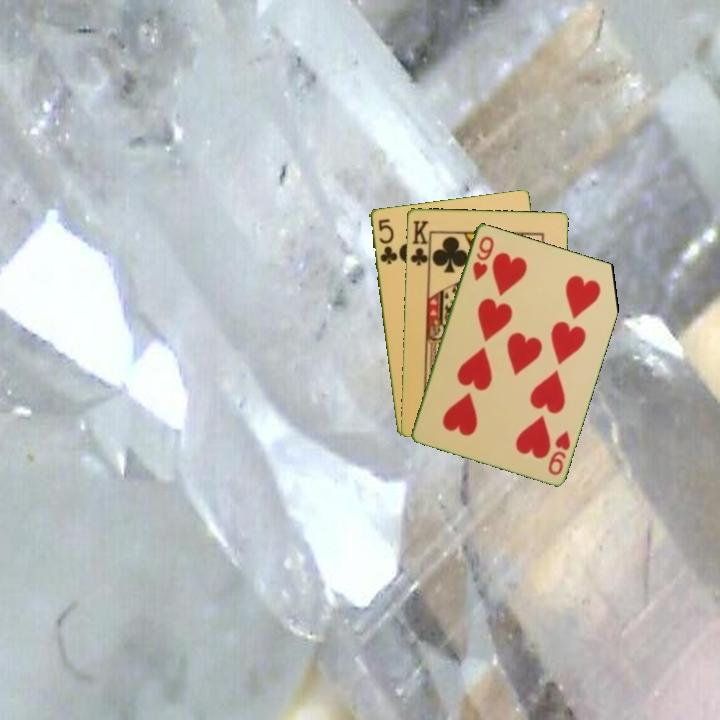5c: (374, 215, 400, 267)
9h: (544, 427, 573, 478), (469, 232, 497, 283)
Kc: (407, 217, 432, 270)
